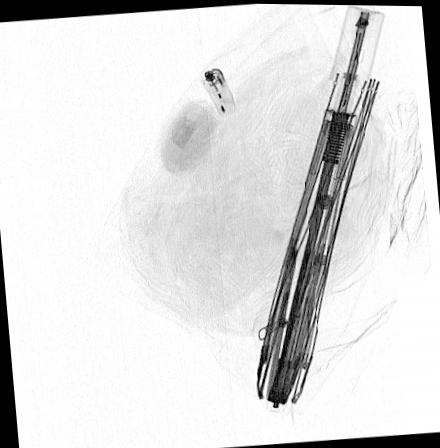Lighter: (200, 66, 235, 115)
